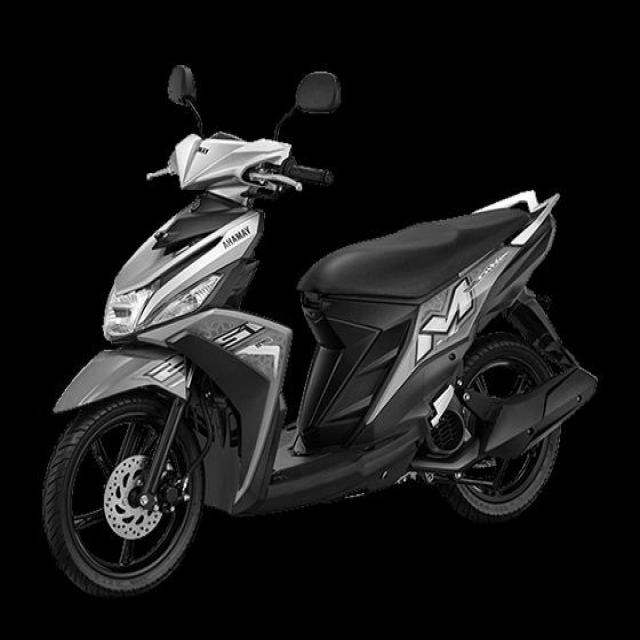Motorcycle: (43, 131, 599, 600)
